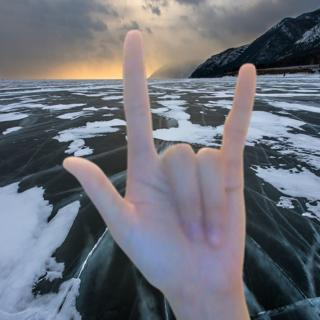ILY: (54, 25, 267, 301)
